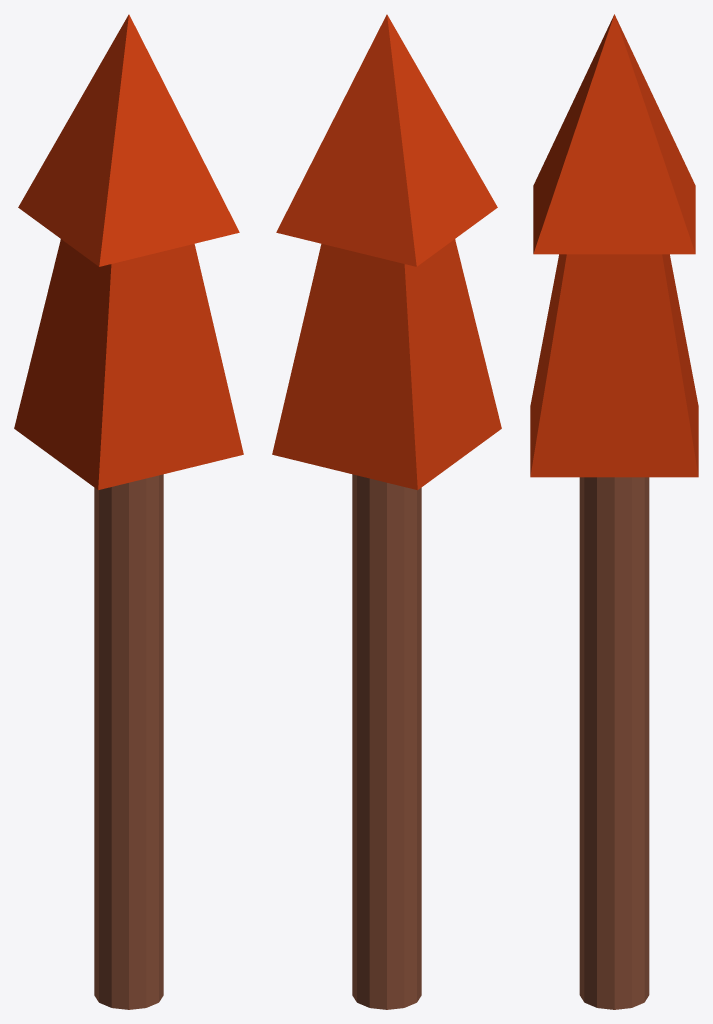
File: Tree_16_summer_red_pal.fbx
The picture shows the model from 3 angles, left to right: view 1: azimuth 30°, elevation 25°; view 2: azimuth 150°, elevation 25°; view 3: azimuth 270°, elevation 25°; orthographic projection.
Visible parts, largest first — view 1: Tree_16_summer_red_pal; view 2: Tree_16_summer_red_pal; view 3: Tree_16_summer_red_pal.
Boxes of the visible parts, x1,y1,x2,y2 form: Tree_16_summer_red_pal: [14, 14, 243, 1009]; Tree_16_summer_red_pal: [272, 14, 501, 1009]; Tree_16_summer_red_pal: [530, 14, 698, 1009].
Bounding box in the file's own units: 53.67 × 345 × 53.67.
